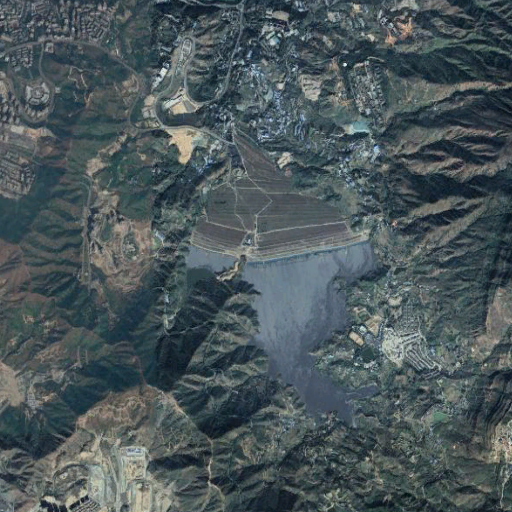tp: (180, 123, 381, 424)
